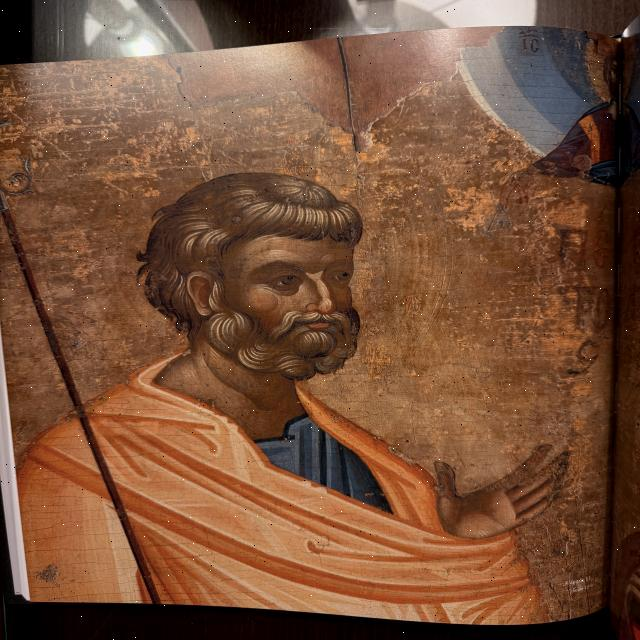saint: (45, 112, 583, 624)
scepter: (3, 178, 173, 601)
